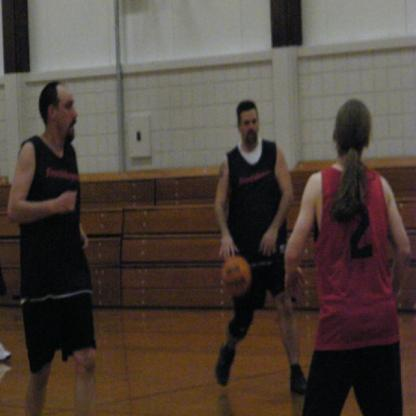basketball: (221, 255, 252, 296)
